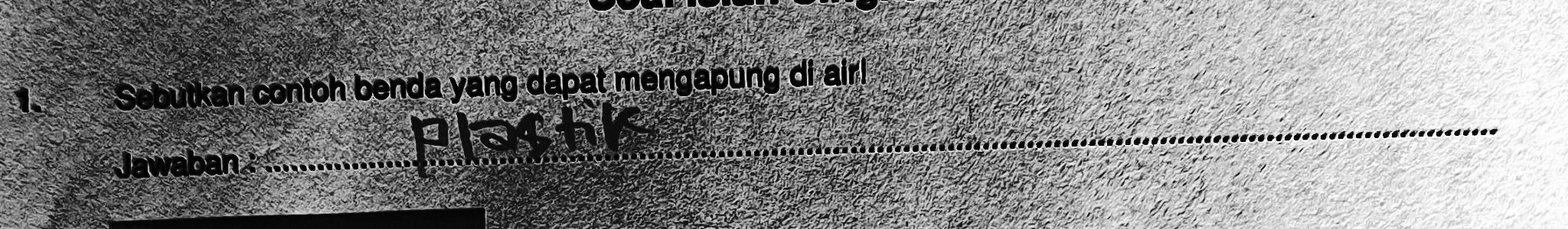jawaban: (399, 103, 652, 163)
